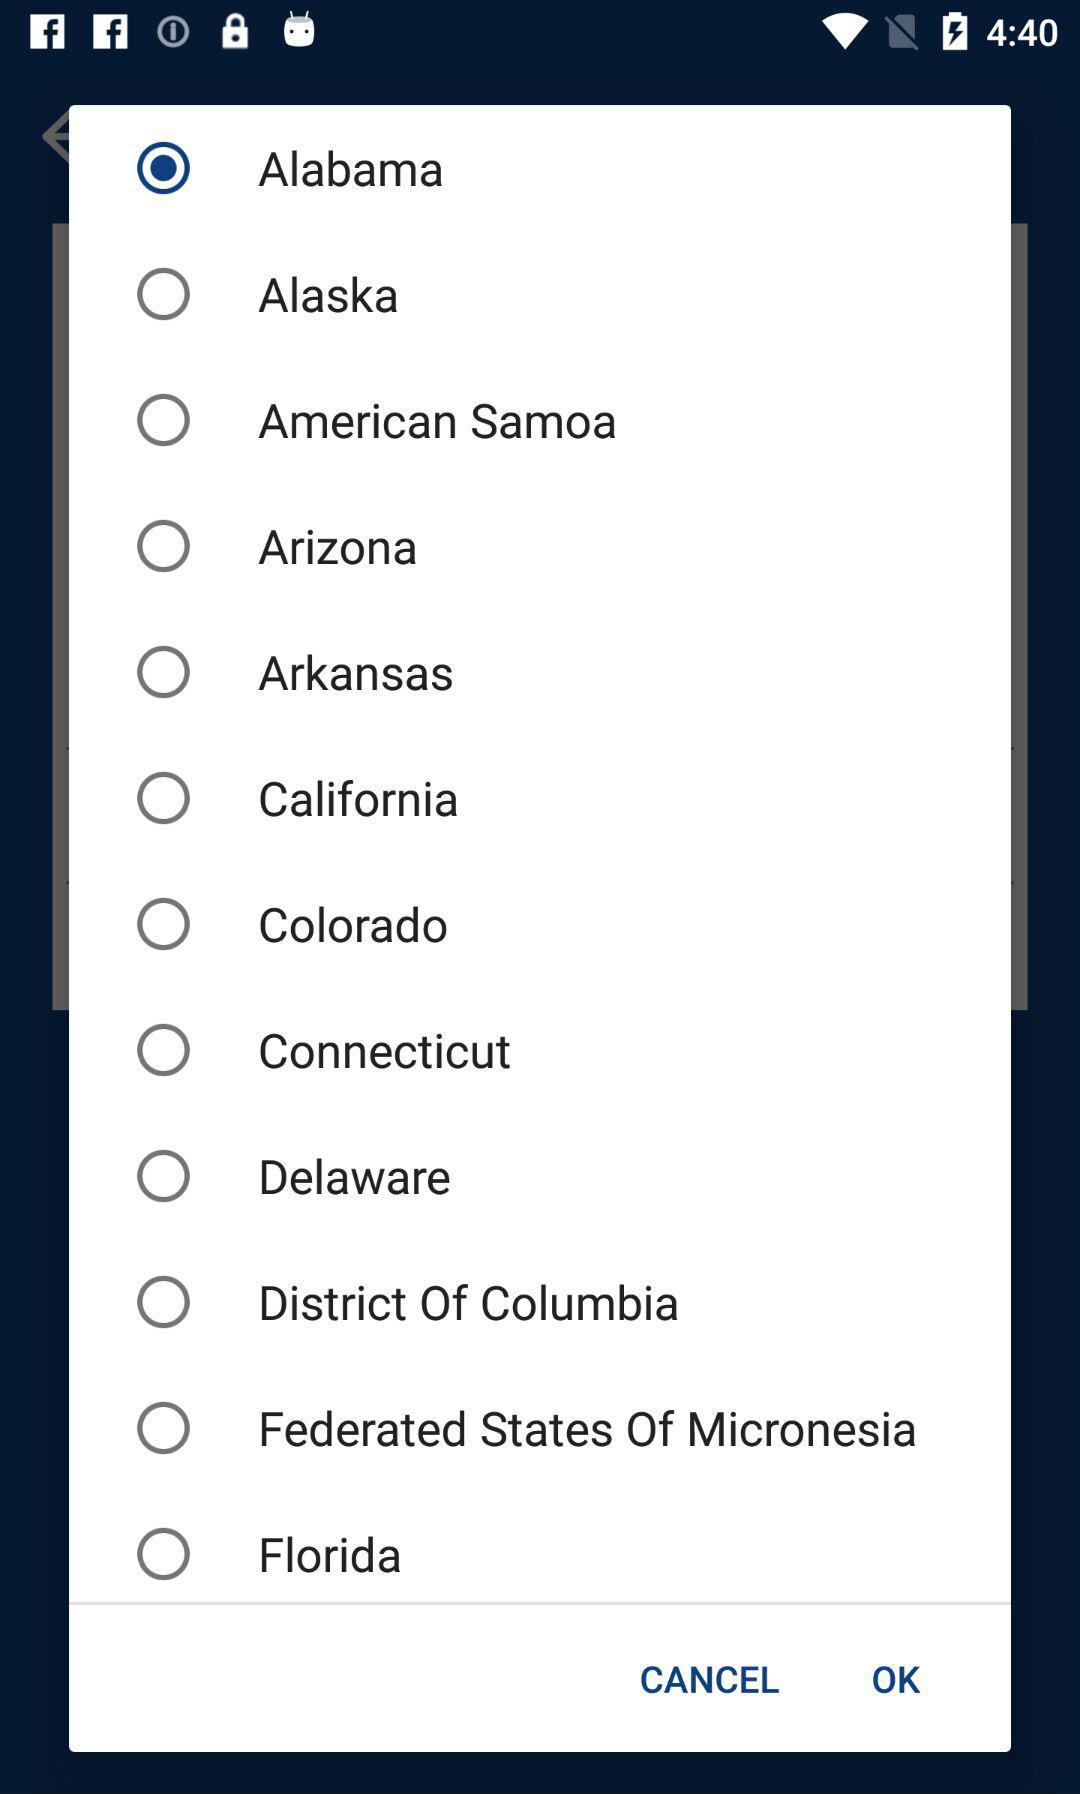CheckedTextView: (137, 1401, 916, 1454), (137, 1275, 678, 1329), (137, 393, 616, 448), (137, 1023, 512, 1076), (137, 771, 457, 827), (138, 645, 454, 700), (138, 1149, 451, 1205), (137, 897, 448, 951), (137, 142, 443, 196), (137, 519, 416, 573), (137, 1527, 402, 1581), (137, 268, 398, 322)
Modal: (69, 105, 1012, 1753)
Text: (261, 1410, 916, 1448), (261, 1283, 678, 1322), (258, 402, 616, 440), (260, 1033, 512, 1070), (260, 779, 457, 818), (258, 654, 454, 692), (261, 905, 448, 944), (258, 150, 443, 188), (261, 1158, 451, 1196), (259, 529, 416, 566), (258, 276, 398, 314), (263, 1535, 402, 1574), (641, 1665, 780, 1694), (872, 1665, 921, 1694)
UpperTaskBar: (1, 1, 1080, 64)
